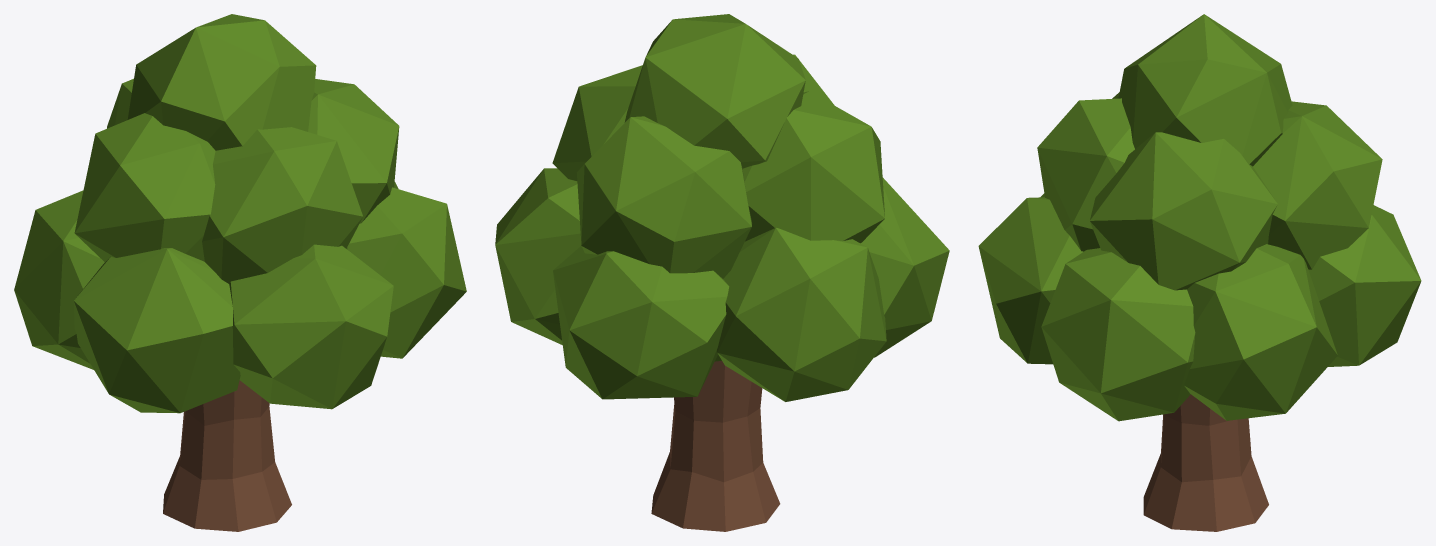
File: tree_small_1.glb
The picture shows the model from 3 angles, left to right: view 1: azimuth 30°, elevation 25°; view 2: azimuth 150°, elevation 25°; view 3: azimuth 270°, elevation 25°; orthographic projection. The views are drawn at different scales.
Visible parts, largest first — view 1: Natures_Big Tree.031_0.073; view 2: Natures_Big Tree.031_0.073; view 3: Natures_Big Tree.031_0.073.
Boxes of the visible parts, x1,y1,x2,y2 form: Natures_Big Tree.031_0.073: (14, 14, 466, 531); Natures_Big Tree.031_0.073: (495, 14, 949, 531); Natures_Big Tree.031_0.073: (978, 14, 1421, 531).
Bounding box in the file's own units: 4.95 × 6.12 × 5.15.
1 material, 1 textured.
